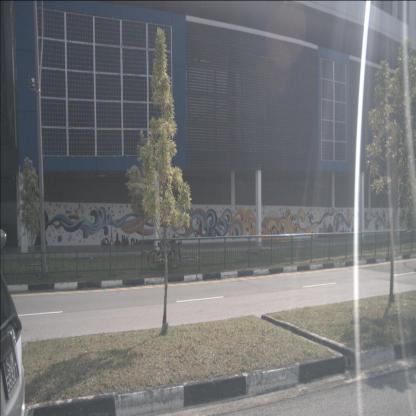vehicle-bicycle: (147, 233, 180, 270), (161, 233, 184, 265)
